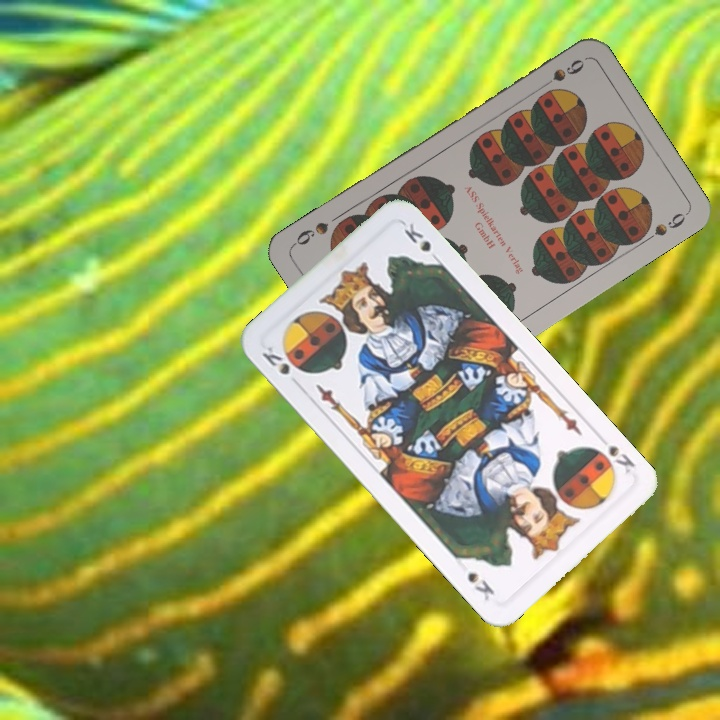S9: (534, 54, 587, 93)
SK: (587, 441, 638, 478), (257, 342, 304, 378)
